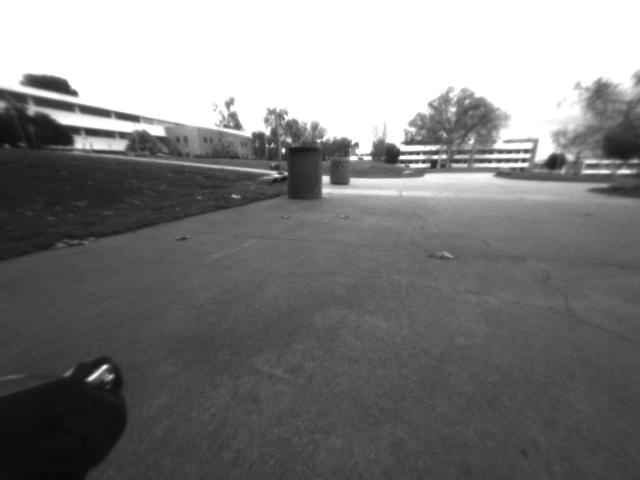trashcan: (286, 144, 322, 201), (329, 157, 350, 186)
